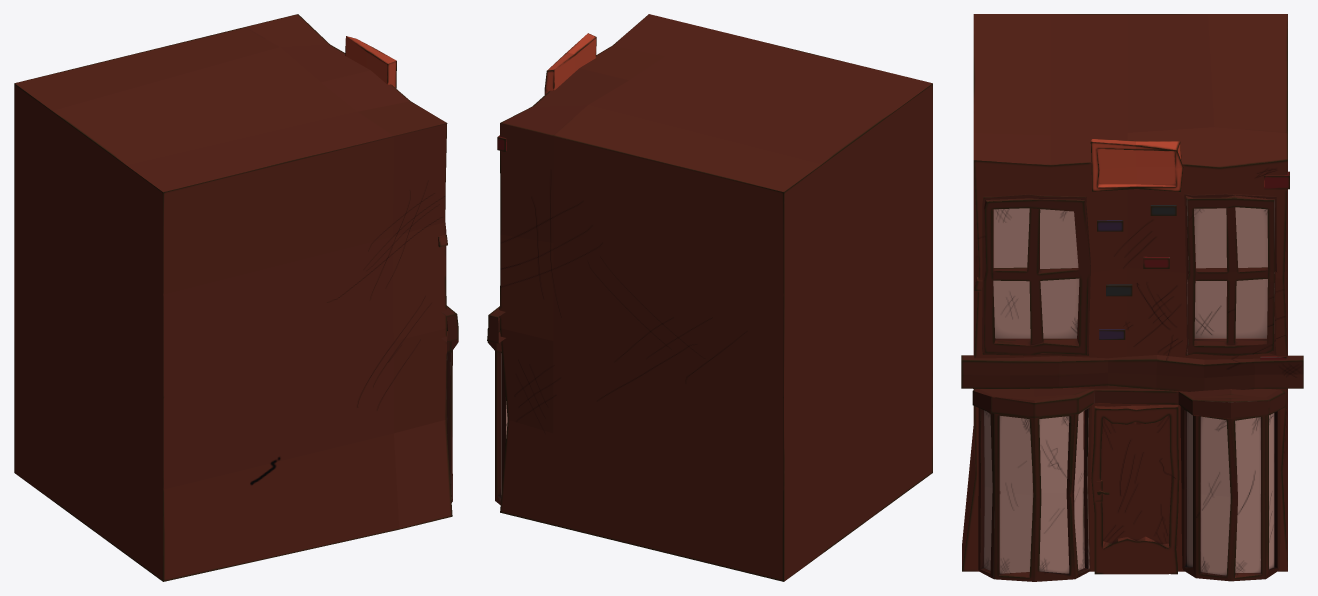
The model's file is BuildingSingle_05.fbx.
The picture shows the model from 3 angles, left to right: view 1: azimuth 30°, elevation 25°; view 2: azimuth 150°, elevation 25°; view 3: azimuth 270°, elevation 25°; orthographic projection. The views are drawn at different scales.
Parts seen in each view (by area): view 1: Building_05; view 2: Building_05; view 3: Building_05.
Part boxes in pixels (bbox=[...]): Building_05: bbox=[14, 14, 458, 581]; Building_05: bbox=[487, 14, 932, 581]; Building_05: bbox=[961, 14, 1303, 581].
Size of the model in its own units: 526 by 660 by 473.
